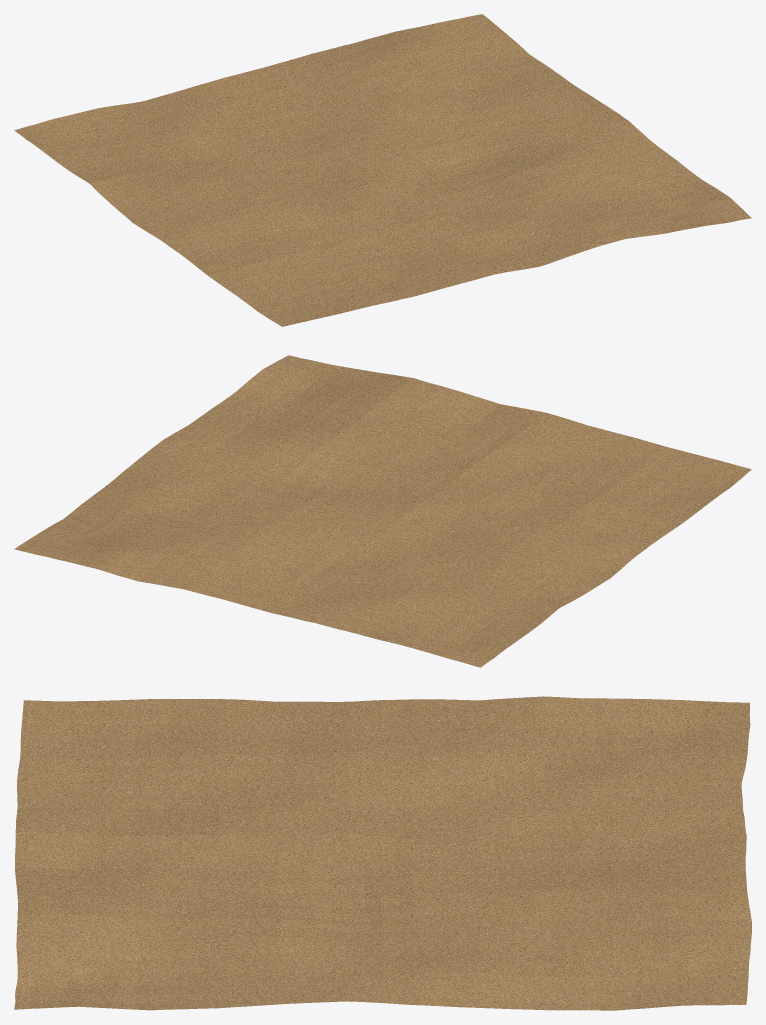
File: sand.glb
3 views of the same model, one above another, from view 1: azimuth 30°, elevation 25°; view 2: azimuth 150°, elevation 25°; view 3: azimuth 270°, elevation 25° (orthographic). The views are drawn at different scales.
Parts seen in each view (by area): view 1: Plane; view 2: Plane; view 3: Plane.
Boxes of the visible parts, box(x1,y1,x2,y2) form: Plane: box(14, 14, 751, 326); Plane: box(14, 355, 751, 667); Plane: box(14, 696, 751, 1010).
Size of the model in its own units: 202 by 4.76 by 202.
1 material, 1 textured.
